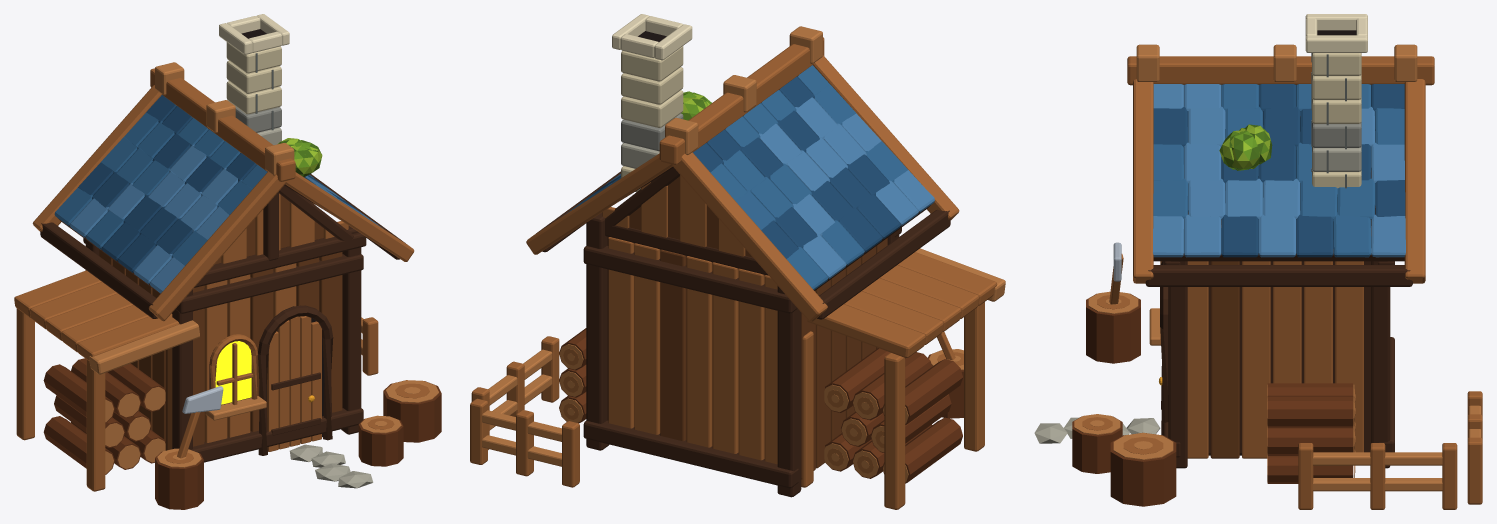
File: woodcutter_hut.glb
The picture shows the model from 3 angles, left to right: view 1: azimuth 30°, elevation 25°; view 2: azimuth 150°, elevation 25°; view 3: azimuth 270°, elevation 25°; orthographic projection. The views are drawn at different scales.
Parts seen in each view (by area): view 1: Carved roof verge, Wall cross beam.002, Ridge timber, Corner upright.002, Heavy doorway frame, Gable tie beam, Roof eave, Wall cross beam, Lean-to upright, Carved roof verge.002, Lean-to upright.001, Carved roof verge.001 (+82 smaller); view 2: Carved roof verge.001, Wall cross beam.001, Wall cross beam.003, Wall timber board.005, Wall timber board.009, Wall timber board.003, Wall timber board.011, Wall timber board.007, Wall timber board.013, Corner upright.001, Corner upright.003, Ridge timber (+79 smaller); view 3: Roof eave.001, Ridge timber, Side timber board.003, Side timber board.005, Carved roof verge.003, Carved roof verge.002, Side timber board.001, Side timber board.011, Corner upright.002, Log bark.016, Corner upright.003, Cottage walls (+64 smaller).
Boxes of the visible parts, <box> form: Carved roof verge: <box>148,172,286,321</box>; Wall cross beam.002: <box>175,254,363,313</box>; Ridge timber: <box>150,68,295,181</box>; Corner upright.002: <box>341,226,361,434</box>; Heavy doorway frame: <box>258,305,333,455</box>; Gable tie beam: <box>194,232,366,287</box>; Roof eave: <box>40,222,157,318</box>; Wall cross beam: <box>191,408,363,462</box>; Lean-to upright: <box>86,360,105,491</box>; Carved roof verge.002: <box>285,172,414,261</box>; Lean-to upright.001: <box>16,308,34,440</box>; Carved roof verge.001: <box>32,85,161,231</box>; Carved roof verge.001: <box>672,152,827,321</box>; Wall cross beam.001: <box>583,420,798,488</box>; Wall cross beam.003: <box>583,245,797,313</box>; Wall timber board.005: <box>712,262,738,453</box>; Wall timber board.009: <box>660,249,686,441</box>; Wall timber board.003: <box>738,268,764,460</box>; Wall timber board.011: <box>634,243,660,434</box>; Wall timber board.007: <box>686,256,712,447</box>; Wall timber board.013: <box>608,237,634,428</box>; Corner upright.001: <box>777,286,801,497</box>; Corner upright.003: <box>586,213,609,450</box>; Ridge timber: <box>659,37,824,164</box>; Roof eave.001: <box>1145,265,1412,286</box>; Ridge timber: <box>1127,56,1434,85</box>; Side timber board.003: <box>1210,261,1239,458</box>; Side timber board.005: <box>1242,261,1270,458</box>; Carved roof verge.003: <box>1404,79,1425,283</box>; Carved roof verge.002: <box>1133,79,1153,283</box>; Side timber board.001: <box>1187,261,1208,458</box>; Side timber board.011: <box>1335,261,1363,452</box>; Corner upright.002: <box>1168,261,1187,468</box>; Log bark.016: <box>1110,432,1176,506</box>; Corner upright.003: <box>1371,261,1390,468</box>; Cottage walls: <box>1208,261,1370,455</box>.
Size of the model in its own units: 4.03 by 4.07 by 3.89.
